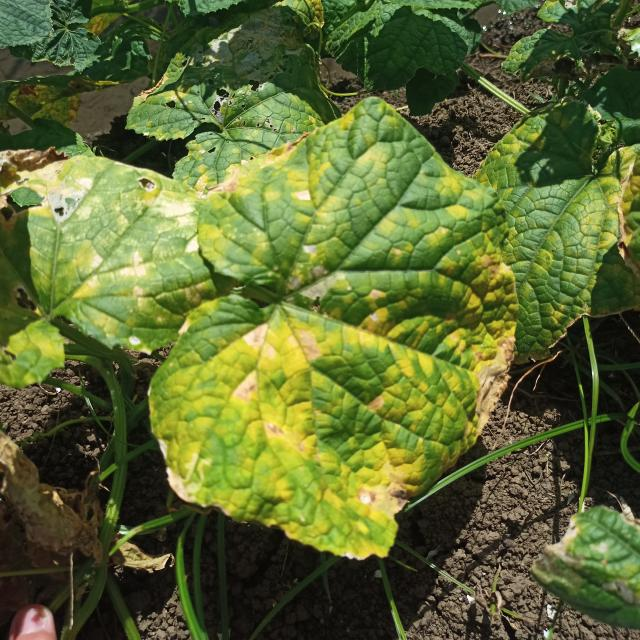disease_cucumber: (151, 98, 518, 560), (37, 153, 212, 350)
